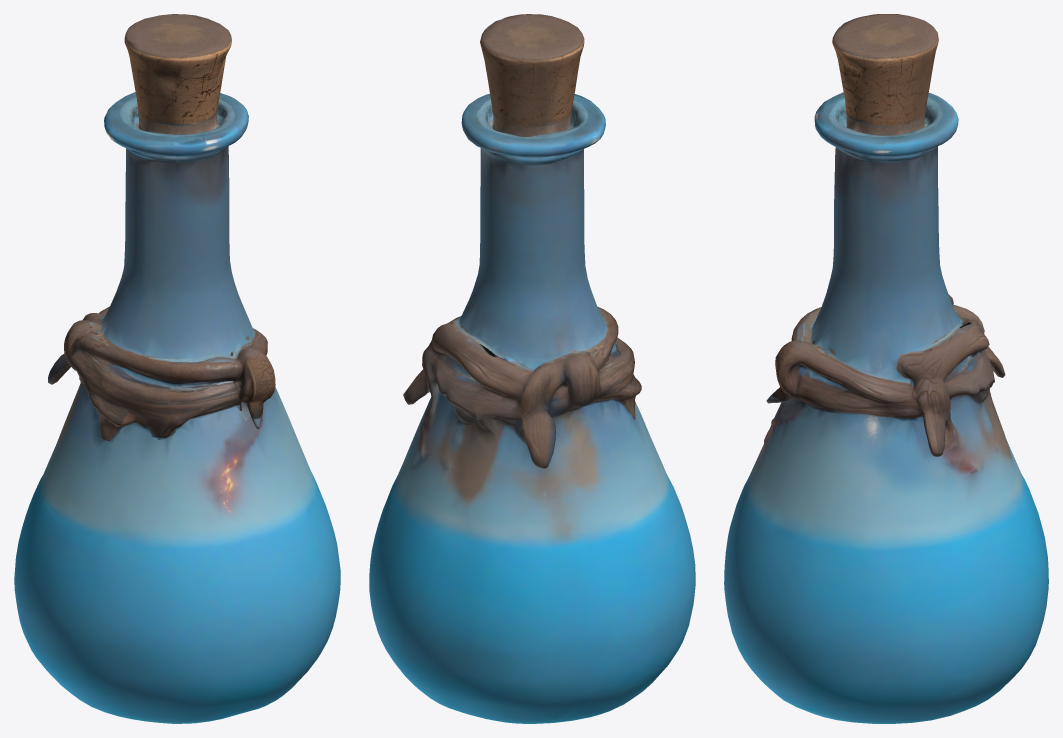
File: Model_Bottle.fbx
The picture shows the model from 3 angles, left to right: view 1: azimuth 30°, elevation 25°; view 2: azimuth 150°, elevation 25°; view 3: azimuth 270°, elevation 25°; orthographic projection.
Parts seen in each view (by area): view 1: input; view 2: input; view 3: input.
Part boxes in pixels (box(x1,y1,x2,y2)): input: box(14, 14, 340, 723); input: box(369, 14, 695, 723); input: box(724, 14, 1048, 723).
Bounding box in the file's own units: 91.15 × 201 × 91.56.
Materials: 1 (1 with a texture image).
